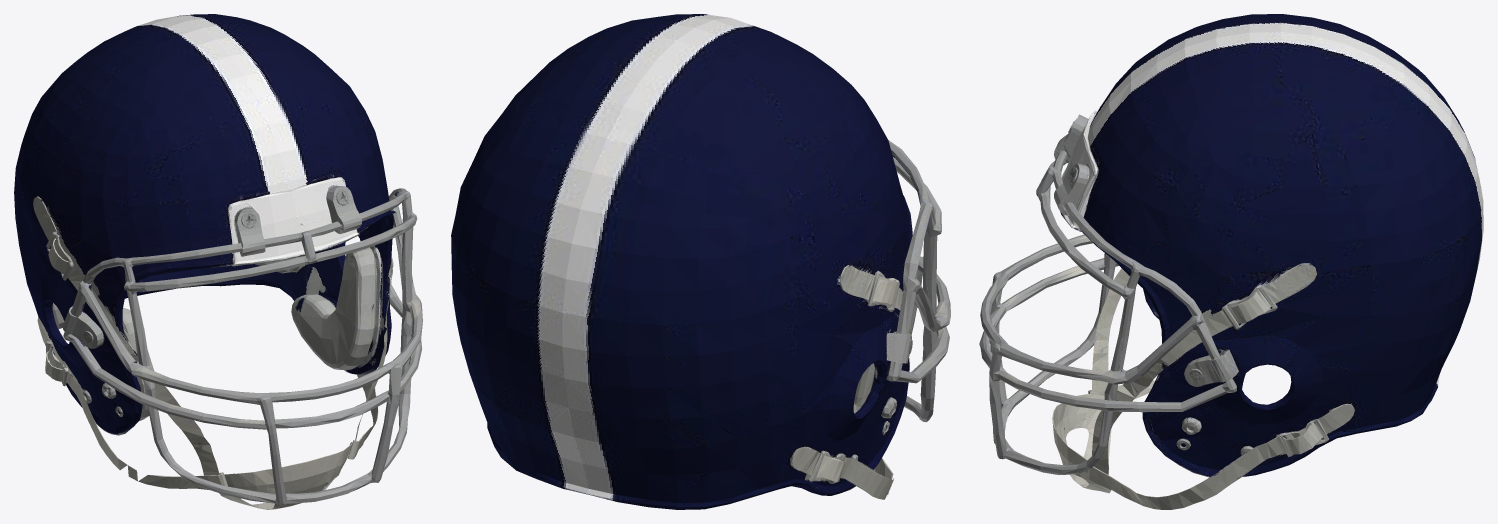
Rendered from ewm_footballhelmet.glb.
3 renders of one model, left to right at view 1: azimuth 30°, elevation 25°; view 2: azimuth 150°, elevation 25°; view 3: azimuth 270°, elevation 25°, orthographic. The views are drawn at different scales.
Visible parts, largest first — view 1: ewm_footballhelmet; view 2: ewm_footballhelmet; view 3: ewm_footballhelmet.
Boxes of the visible parts, bbox=[...] form: ewm_footballhelmet: bbox=[14, 14, 422, 509]; ewm_footballhelmet: bbox=[451, 14, 950, 509]; ewm_footballhelmet: bbox=[979, 14, 1483, 509].
Bounding box in the file's own units: 0.2256 × 0.2745 × 0.2801.
1 material, 1 textured.
